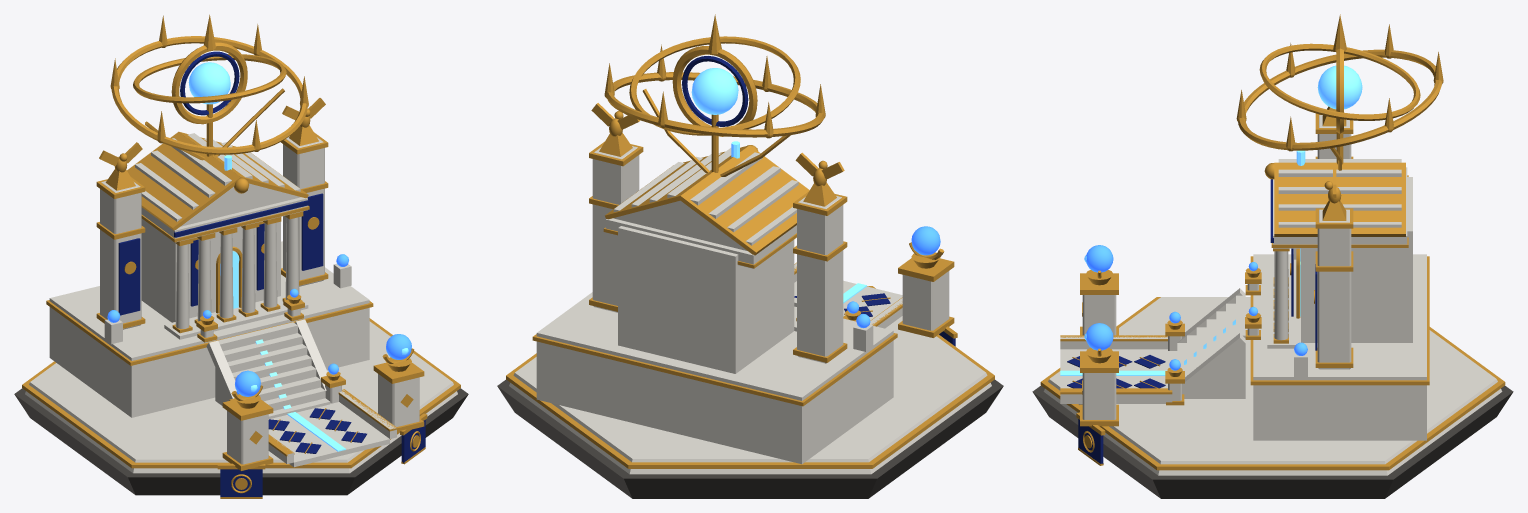
The model's file is zeus_tutor_structure_5.glb.
3 views of the same model, side by side, from view 1: azimuth 30°, elevation 25°; view 2: azimuth 150°, elevation 25°; view 3: azimuth 270°, elevation 25° (orthographic). The views are drawn at different scales.
Visible parts, largest first — view 1: zeus_tutor_structure_5; view 2: zeus_tutor_structure_5; view 3: zeus_tutor_structure_5.
Part boxes in pixels (x1,y1,x2,y2): zeus_tutor_structure_5: [14, 14, 468, 498]; zeus_tutor_structure_5: [497, 14, 1003, 498]; zeus_tutor_structure_5: [1032, 14, 1513, 498].
Size of the model in its own units: 1.49 by 1.59 by 1.72.
Materials: 1 (1 with a texture image).
